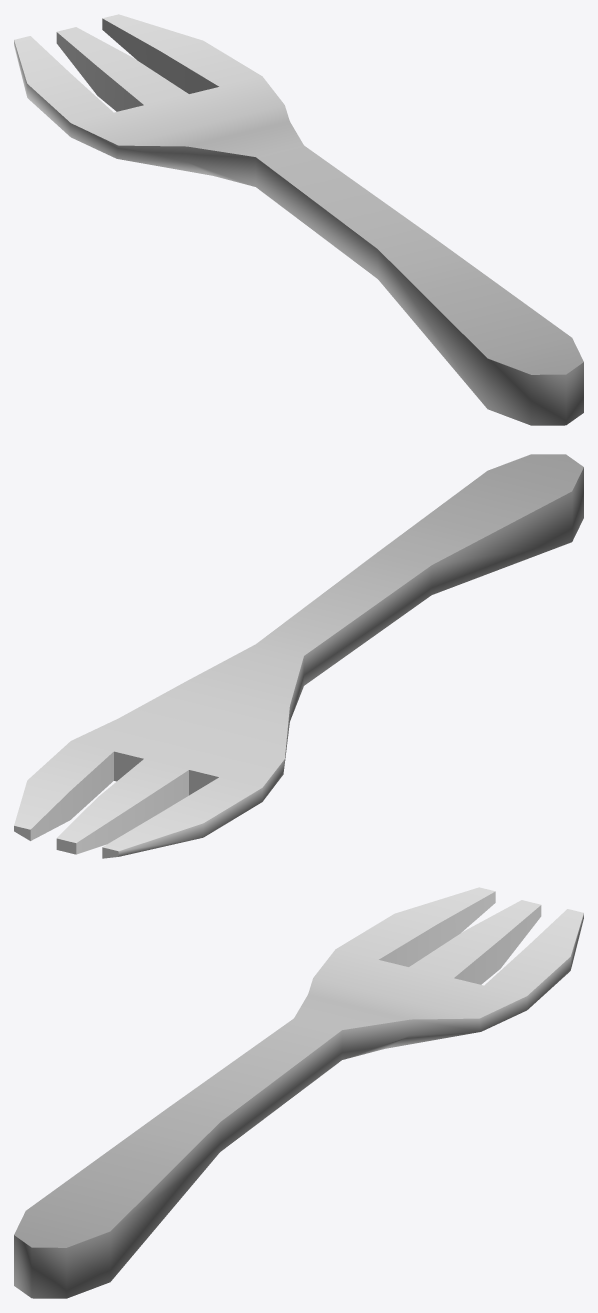
File: Fork.fbx
3 views of the same model, one above another, from view 1: azimuth 30°, elevation 25°; view 2: azimuth 150°, elevation 25°; view 3: azimuth 330°, elevation 25° (orthographic).
Parts seen in each view (by area): view 1: Cube.001; view 2: Cube.001; view 3: Cube.001.
Part boxes in pixels (left/top/right/bottom): Cube.001: left=14, top=14, right=583, bottom=425; Cube.001: left=14, top=454, right=583, bottom=858; Cube.001: left=14, top=887, right=583, bottom=1298.
Size of the model in its own units: 12.75 by 4.11 by 57.58.
1 material, 1 textured.
